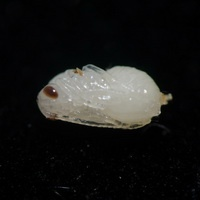insect: (37, 64, 171, 128)
